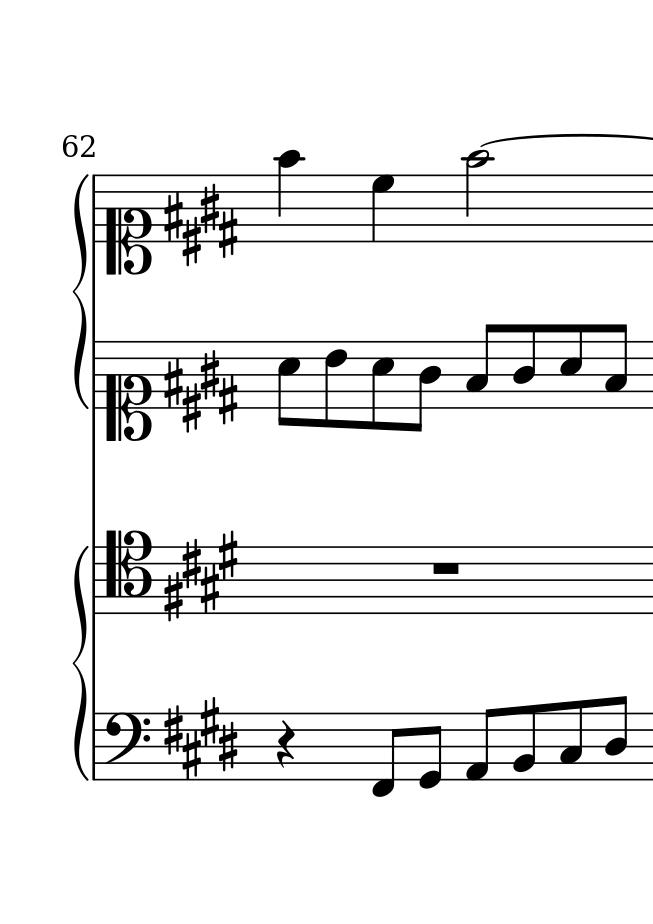2_10: (463, 149, 494, 243)
4_10: (276, 149, 302, 246)
4_7: (371, 171, 395, 246)
6: (61, 132, 79, 159), (80, 132, 97, 159)
8_-1: (372, 711, 403, 797)
8_0: (418, 711, 445, 790)
8_1: (464, 707, 500, 782)
8_2: (512, 703, 538, 784)
8_3: (465, 323, 500, 410), (603, 323, 629, 411), (560, 698, 585, 783)
8_4: (412, 340, 442, 433), (513, 322, 541, 411), (603, 693, 630, 782)
8_5: (369, 340, 396, 432), (276, 340, 303, 430), (558, 323, 585, 412)
8_6: (323, 340, 349, 432)
Brace: (68, 546, 88, 779), (71, 173, 88, 412)
E_S: (163, 173, 242, 267), (161, 531, 240, 621), (163, 340, 235, 429), (163, 699, 241, 781)
Fclef: (102, 711, 152, 784)
Rests1: (429, 557, 465, 577)
Rests4: (273, 718, 300, 775)
Single_barline: (87, 175, 103, 243), (88, 341, 104, 409), (87, 547, 103, 615), (89, 713, 103, 781)
Soprano_Cclef: (103, 172, 152, 279), (104, 338, 152, 446)
Tensor_Cclef: (104, 528, 156, 615)
